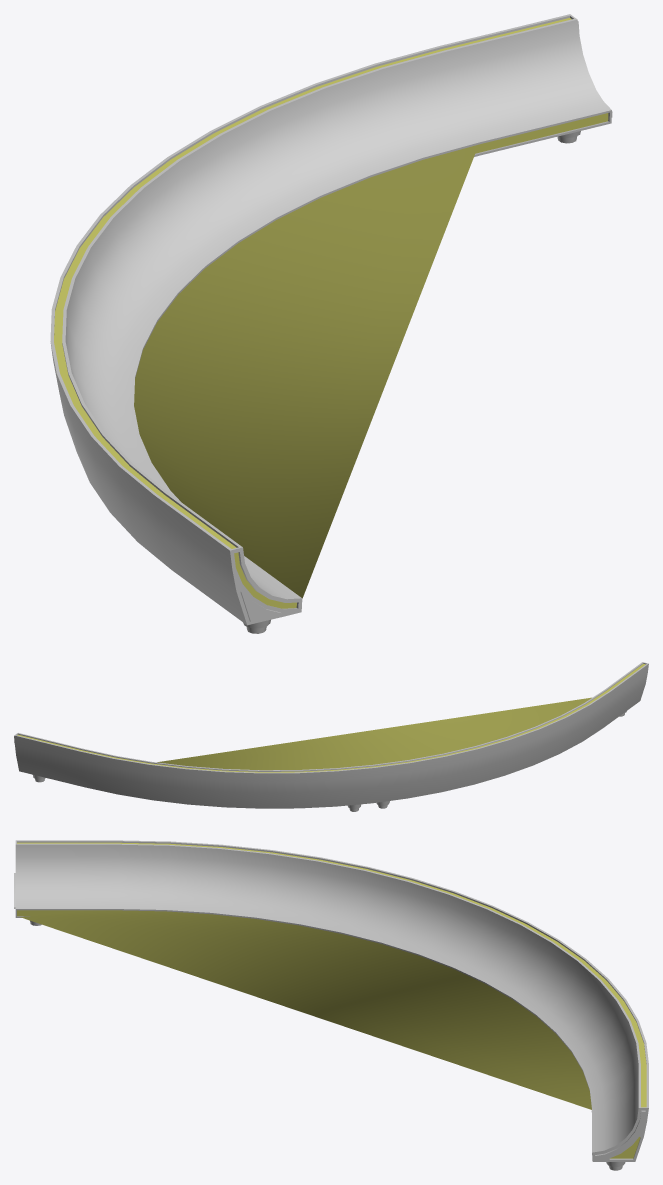
The model's file is AdvertisingBoardSlotCurved.fbx.
3 views of the same model, one above another, from view 1: azimuth 30°, elevation 25°; view 2: azimuth 150°, elevation 25°; view 3: azimuth 270°, elevation 25° (orthographic). The views are drawn at different scales.
Parts seen in each view (by area): view 1: AdvertisingBoardsSlotsCurved; view 2: AdvertisingBoardsSlotsCurved; view 3: AdvertisingBoardsSlotsCurved.
Boxes of the visible parts, x1,y1,x2,y2 form: AdvertisingBoardsSlotsCurved: (50,14,612,633); AdvertisingBoardsSlotsCurved: (14,662,648,811); AdvertisingBoardsSlotsCurved: (14,840,648,1170).
Size of the model in its own units: 308 by 36.83 by 308.
